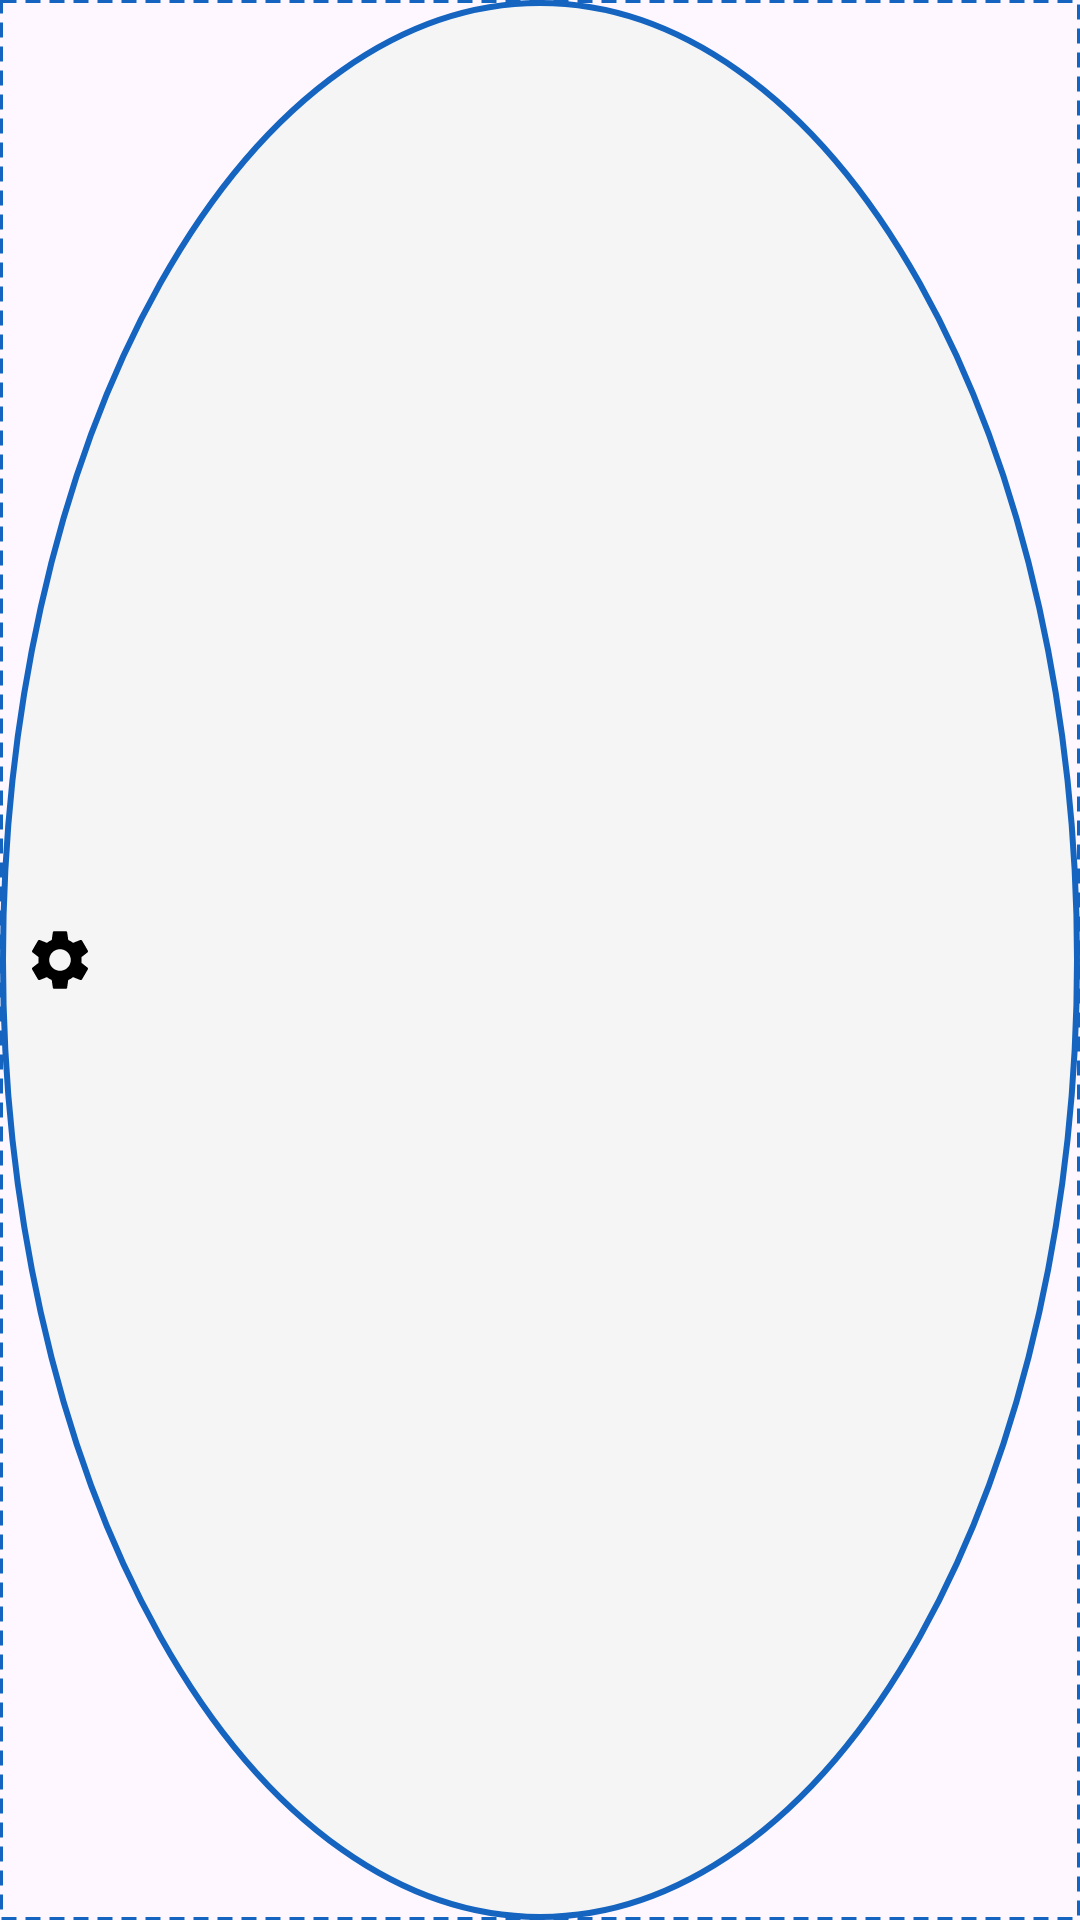

Named icons in this screenshot (1080px x 1920px) and their centers, point (x, y):
Settings icon: point (60, 960)
